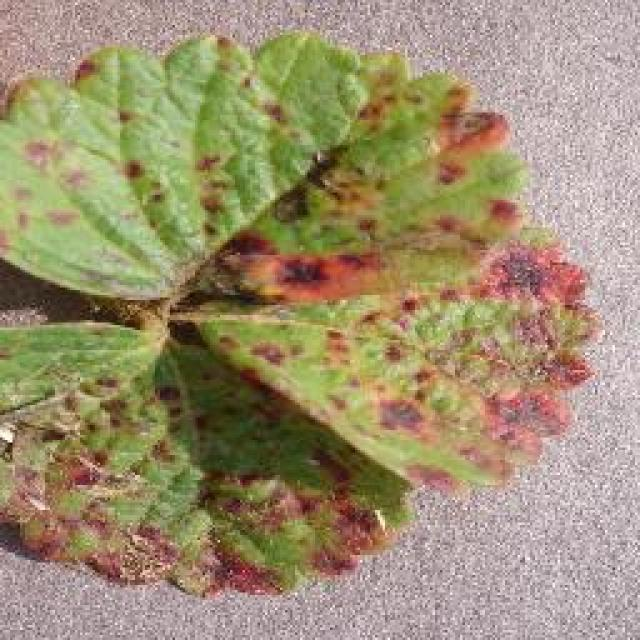Strawberry leaf scorch: (58, 130, 500, 512)
